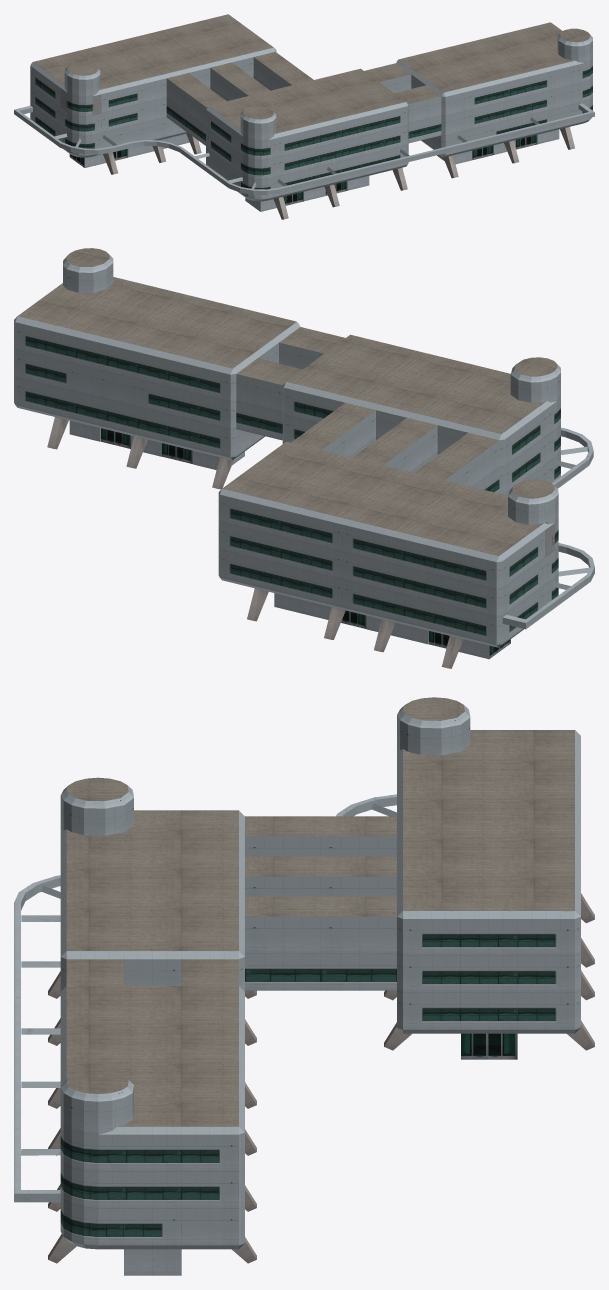
Rendered from gaz2bld_law.obj.
The picture shows the model from 3 angles, top to bottom: view 1: azimuth 30°, elevation 25°; view 2: azimuth 150°, elevation 25°; view 3: azimuth 270°, elevation 25°; orthographic projection. The views are drawn at different scales.
Visible parts, largest first — view 1: gaz2bld_law; view 2: gaz2bld_law; view 3: gaz2bld_law.
Boxes of the visible parts, left/top/right/bottom form: gaz2bld_law: left=14, top=14, right=594, bottom=219; gaz2bld_law: left=14, top=248, right=594, bottom=668; gaz2bld_law: left=14, top=697, right=594, bottom=1275.
Bounding box in the file's own units: 107 × 24.12 × 62.97.
